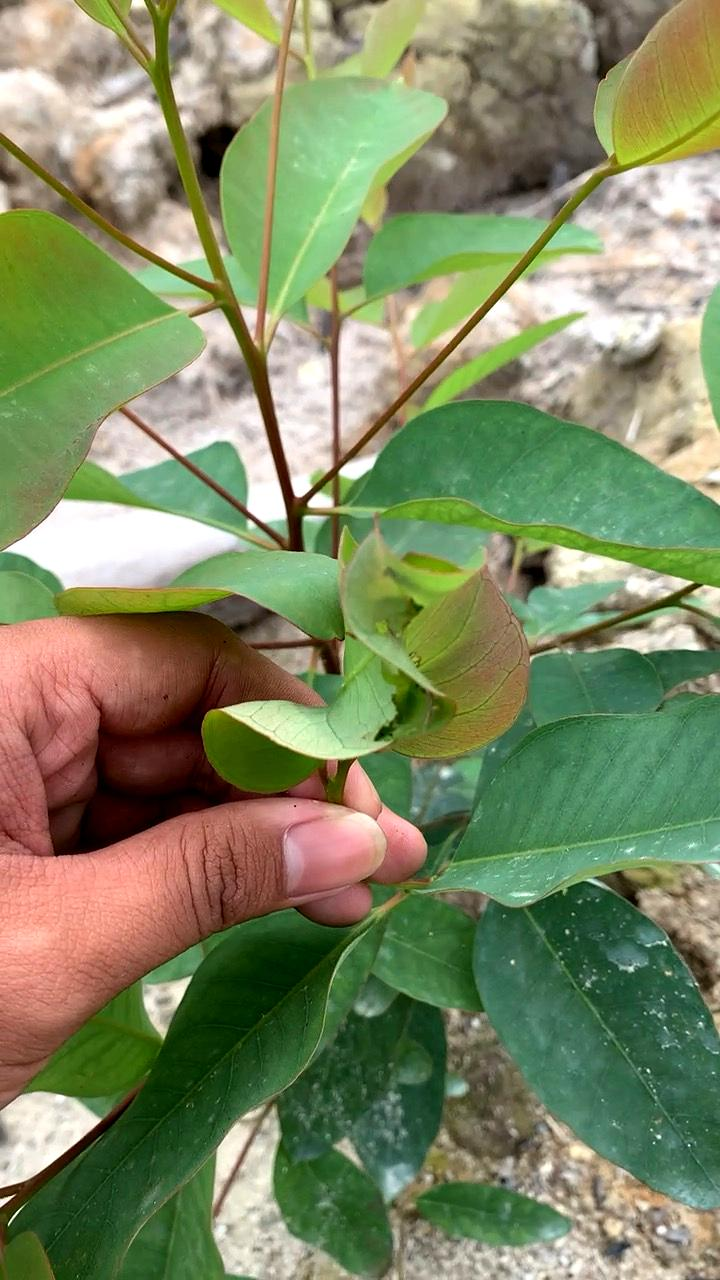Leaf Roller - Leaf: (197, 485, 576, 930)
